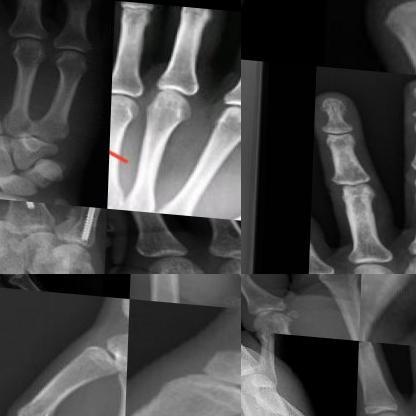fracture: (77, 202, 108, 251), (279, 401, 318, 415)
